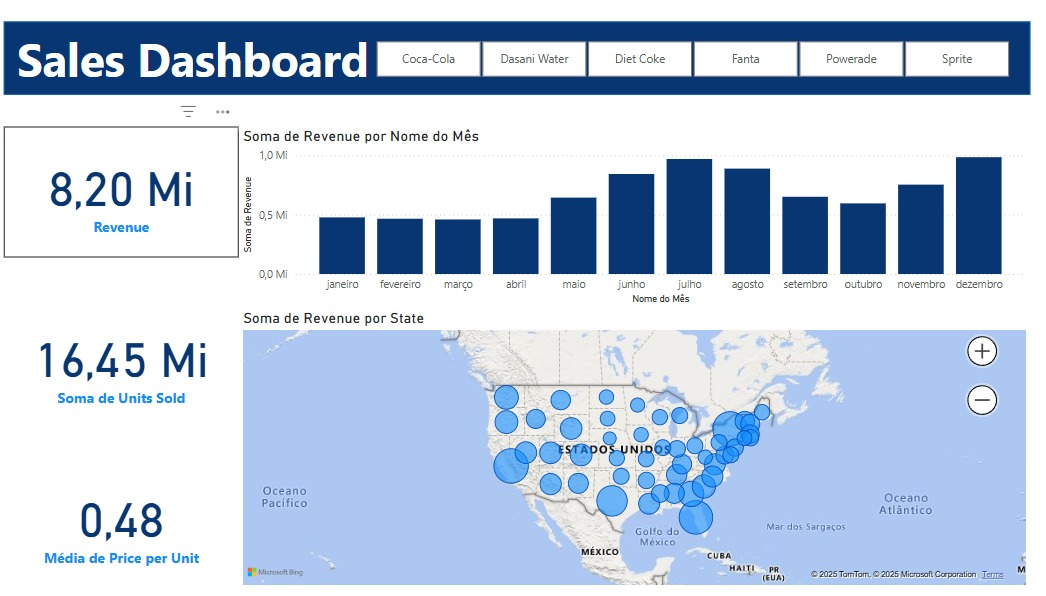

The dashboard page shown, as its layout file describes it:
{"tool":"powerbi","page":{"name":"Página 1","canvas":[1280,720],"ordinal":0},"visuals":[{"type":"shape","box":[44.2,30.7,1173.2,83.7],"z":0},{"type":"card","fields":{"Values":["Sum(Data.Revenue)"]},"box":[43.9,150.9,269,150.9],"z":1000},{"type":"card","fields":{"Values":["Sum(Data.Units Sold)"]},"box":[43.9,347.2,269,150.9],"z":2000},{"type":"card","fields":{"Values":["Avg(Data.Price per Unit)"]},"box":[43.9,529.7,269,150.9],"z":3000},{"type":"columnChart","fields":{"Y":["Sum(Data.Revenue)"],"Category":["Data.Nome do Mês"]},"box":[312.9,150.9,904.3,208.6],"z":4000},{"type":"map","fields":{"Size":["Sum(Data.Revenue)"],"Category":["Data.State"]},"box":[312.9,360,904.3,320],"z":5000},{"type":"slicer","fields":{"Values":["Data.Beverage Brand"]},"box":[444.3,47.1,772.9,54.3],"z":6000}]}

Visuals, with their boxes in screenshot pixels (x1, y1, x2, y2), scaled from the page's 1280x720 canvas onto the 1046x596 screenshot:
shape: box=[36, 25, 995, 95]
card - Sum(Data.Revenue): box=[36, 125, 256, 250]
card - Sum(Data.Units Sold): box=[36, 287, 256, 412]
card - Avg(Data.Price per Unit): box=[36, 438, 256, 563]
columnChart - Sum(Data.Revenue) x Data.Nome do Mês: box=[256, 125, 995, 298]
map - Sum(Data.Revenue) x Data.State: box=[256, 298, 995, 563]
slicer - Data.Beverage Brand: box=[363, 39, 995, 84]
